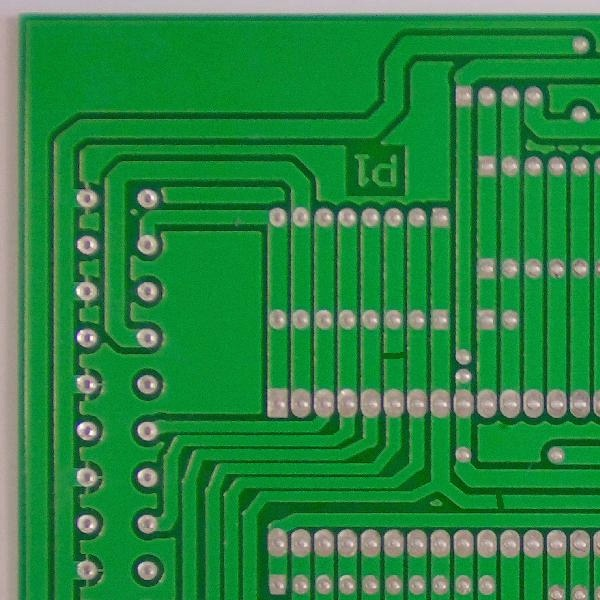open_circuit: (383, 346, 406, 369), (488, 491, 511, 511)
